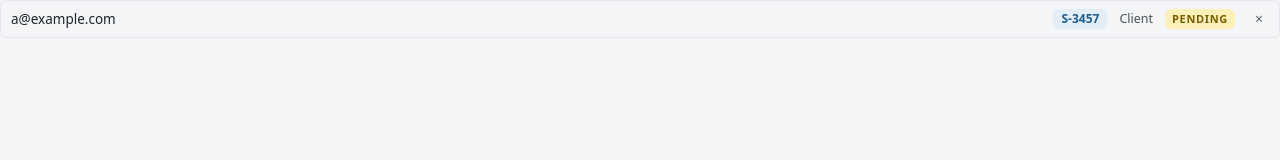
GrantList revoke › puts the row back and says so when the API refuses
The width and height of the screenshot is (1280, 160).
Click the button named "Remove a@example.com" at (1259,19), box [1247, 7, 1271, 31]
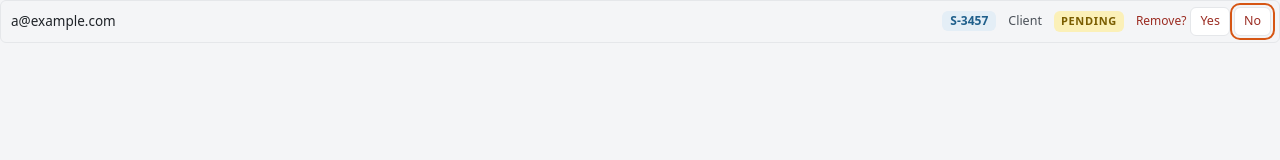
Click the button "Yes" at (1210,21), box [1190, 7, 1230, 36]
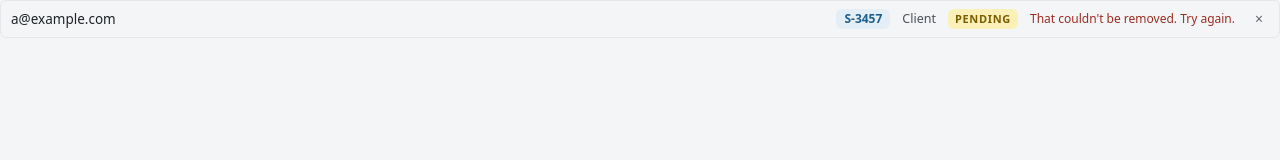
Expected: the text "Pending" is shown, [948, 9, 1018, 29]
Expected: the message reads "That couldn't be removed. Try again.", [1030, 10, 1235, 27]
Expected: the button named "Remove a@example.com" is shown, [1247, 7, 1271, 31]
